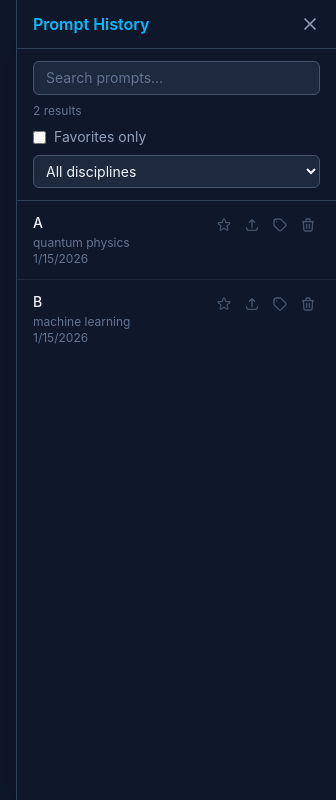
Scenario: PromptHistory — search › filters records by coreIdea
Expected: the text "A" is shown, [33, 214, 43, 231]
In the field labelled "Search prompts…": (176, 78) [33, 61, 320, 95], type "quantum"
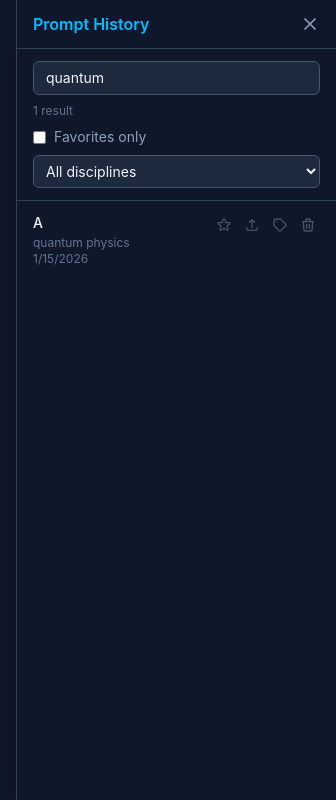
Expected: the text "A" is shown, [33, 214, 43, 231]
Expected: the text "B" is gone
